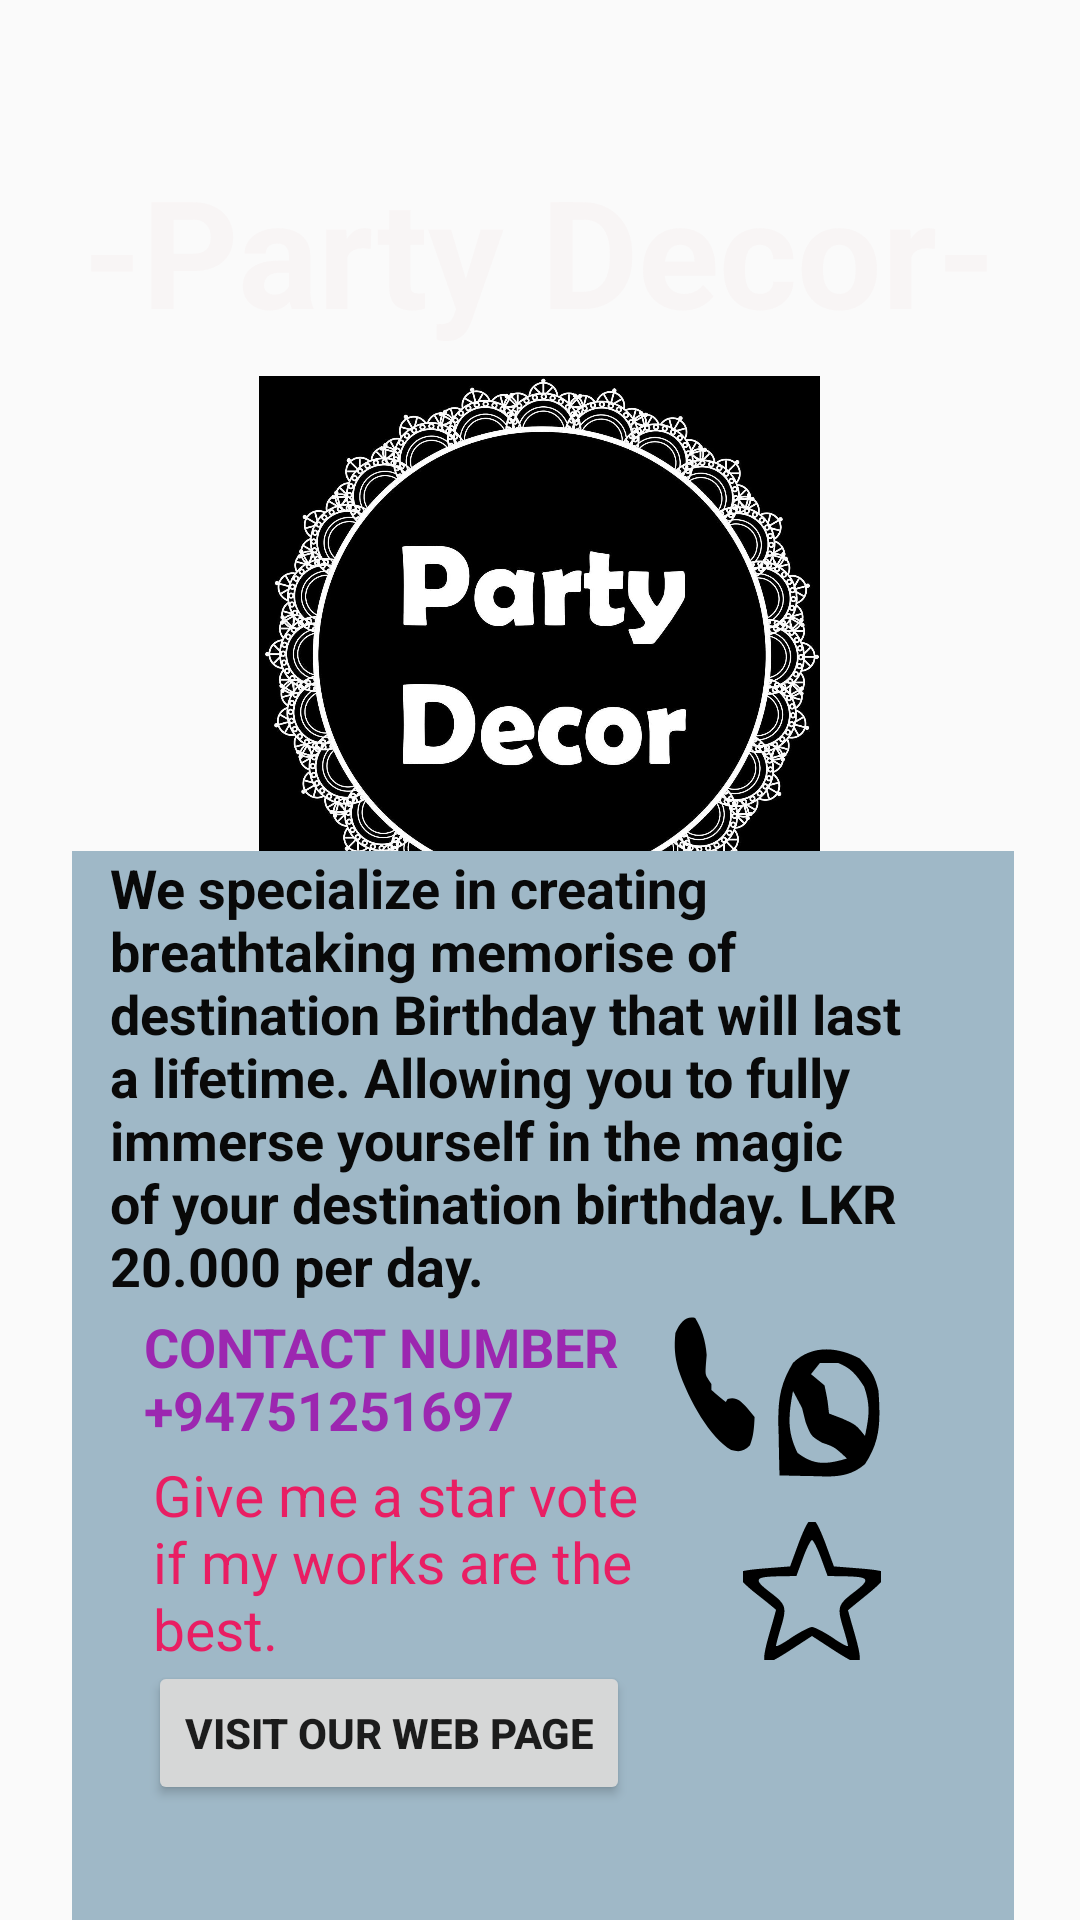

Locate icon controls on the screen. Image size 1080x1920, boxes as bbox=[x1, y1, x2, y2].
phone number: bbox=[674, 1317, 755, 1452]
